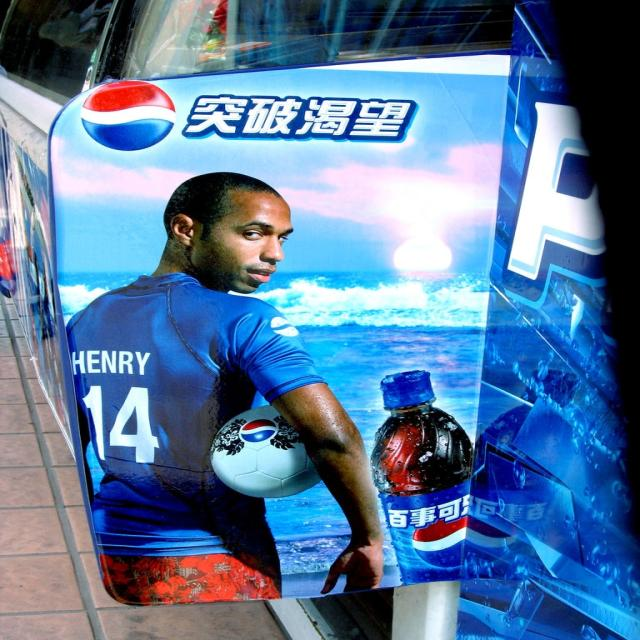pepsi: (80, 79, 179, 154), (410, 515, 468, 570), (241, 420, 276, 444)
